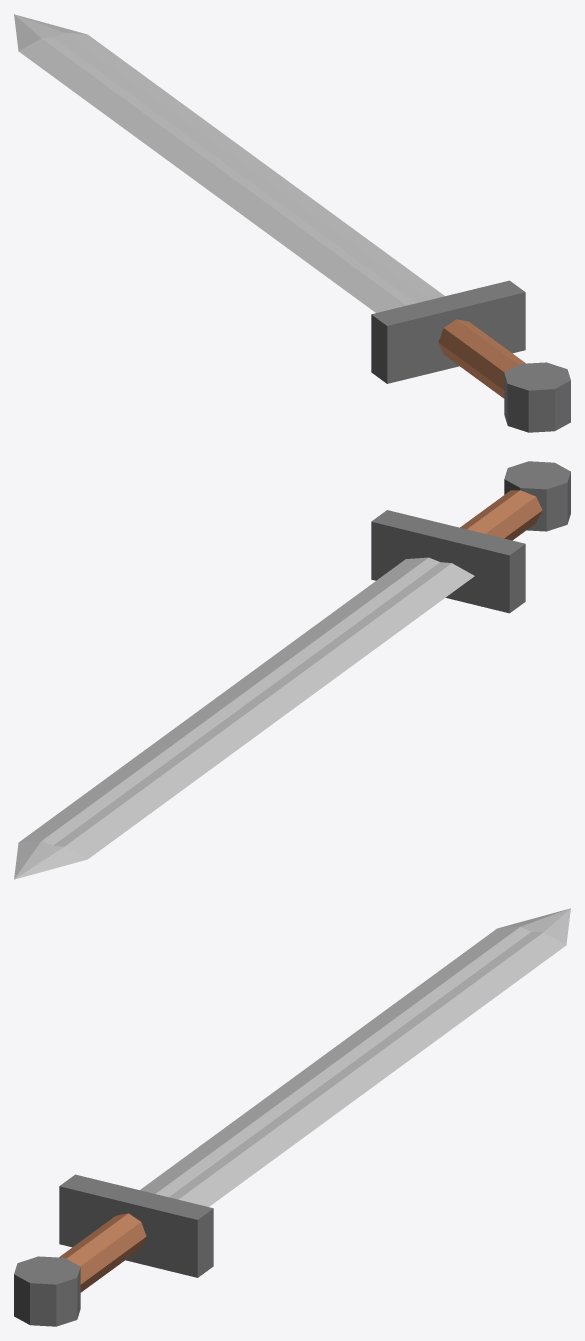
Rendered from sword2.fbx.
3 views of the same model, one above another, from view 1: azimuth 30°, elevation 25°; view 2: azimuth 150°, elevation 25°; view 3: azimuth 330°, elevation 25° (orthographic).
Parts seen in each view (by area): view 1: Cube; view 2: Cube; view 3: Cube.
Boxes of the visible parts, box(x1,y1,x2,y2) form: Cube: box(14, 14, 570, 432); Cube: box(14, 461, 570, 879); Cube: box(14, 908, 570, 1326).
Bounding box in the file's own units: 200 × 80 × 1353.
